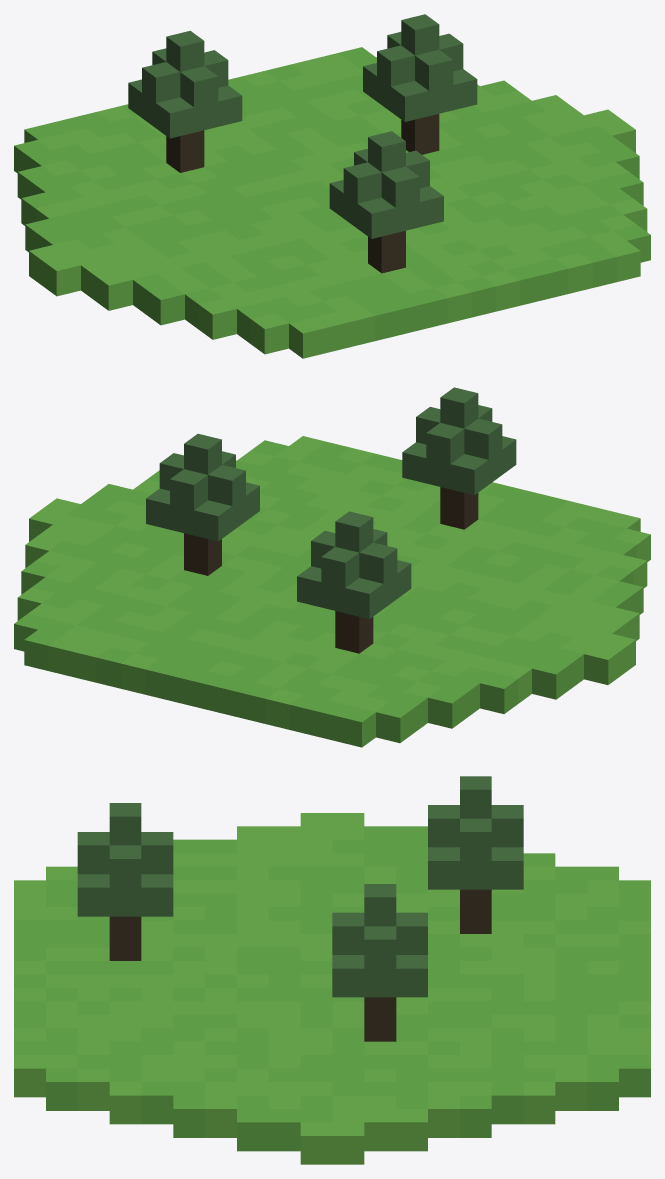
File: overworld-27-grassland_trees.obj
3 renders of one model, top to bottom at view 1: azimuth 30°, elevation 25°; view 2: azimuth 150°, elevation 25°; view 3: azimuth 270°, elevation 25°, orthographic. The views are drawn at different scales.
Parts seen in each view (by area): view 1: grassland_trees; view 2: grassland_trees; view 3: grassland_trees.
Part boxes in pixels (x1,y1,x2,y2): grassland_trees: (14,14,650,358); grassland_trees: (14,387,650,747); grassland_trees: (14,776,650,1164).
Bounding box in the file's own units: 2.4 × 0.6 × 2.
Materials: 1 (1 with a texture image).
